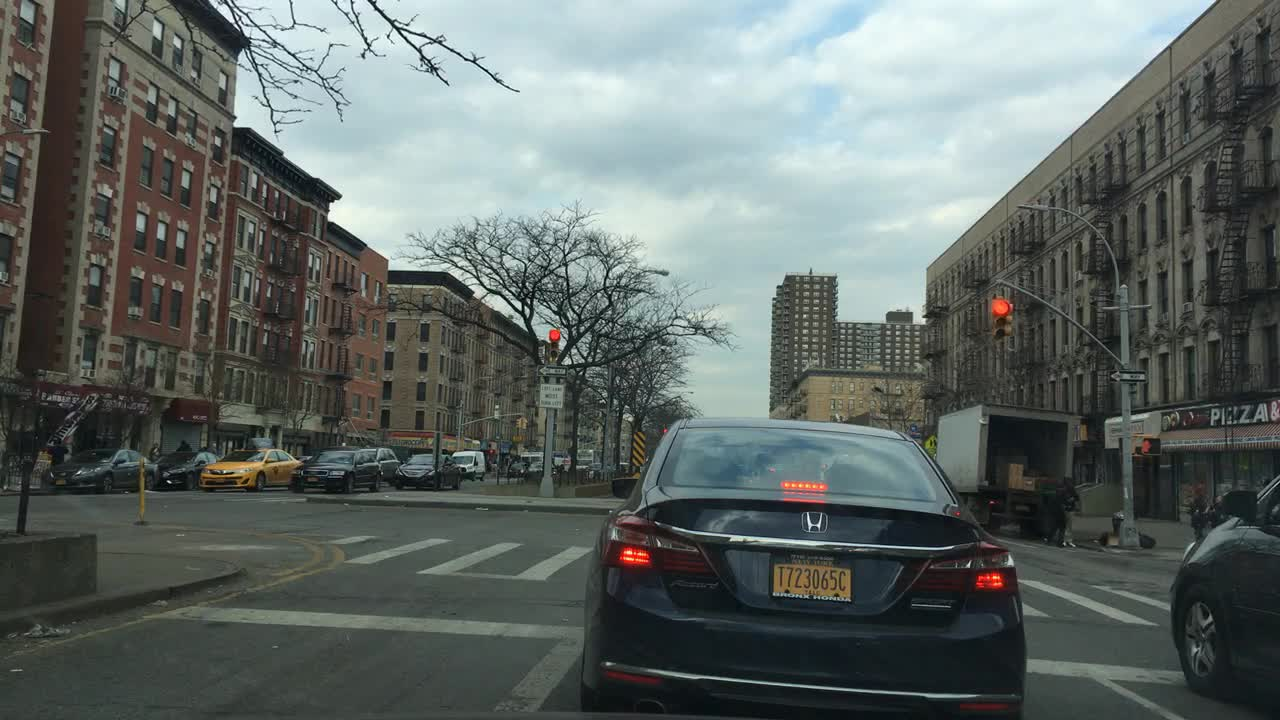car: (578, 416, 1026, 718), (1167, 470, 1278, 701), (197, 435, 298, 491), (41, 446, 157, 491), (290, 449, 381, 494), (154, 449, 217, 489), (394, 454, 452, 487), (366, 445, 399, 482), (296, 454, 314, 465), (511, 461, 524, 476), (531, 461, 544, 471), (573, 462, 587, 471)
person: (1040, 485, 1065, 546), (1060, 476, 1079, 551), (1185, 482, 1209, 541), (47, 436, 68, 465), (147, 441, 159, 456), (177, 437, 188, 446)
traffic light: (995, 298, 1006, 338), (1140, 434, 1160, 452), (1005, 301, 1015, 335), (549, 328, 560, 358), (521, 417, 527, 430), (515, 417, 521, 427), (661, 426, 666, 437)
traffic sign: (540, 381, 561, 408), (1110, 368, 1146, 381), (536, 365, 566, 376), (923, 432, 935, 454)
truck: (933, 400, 1075, 535), (451, 451, 487, 481)
